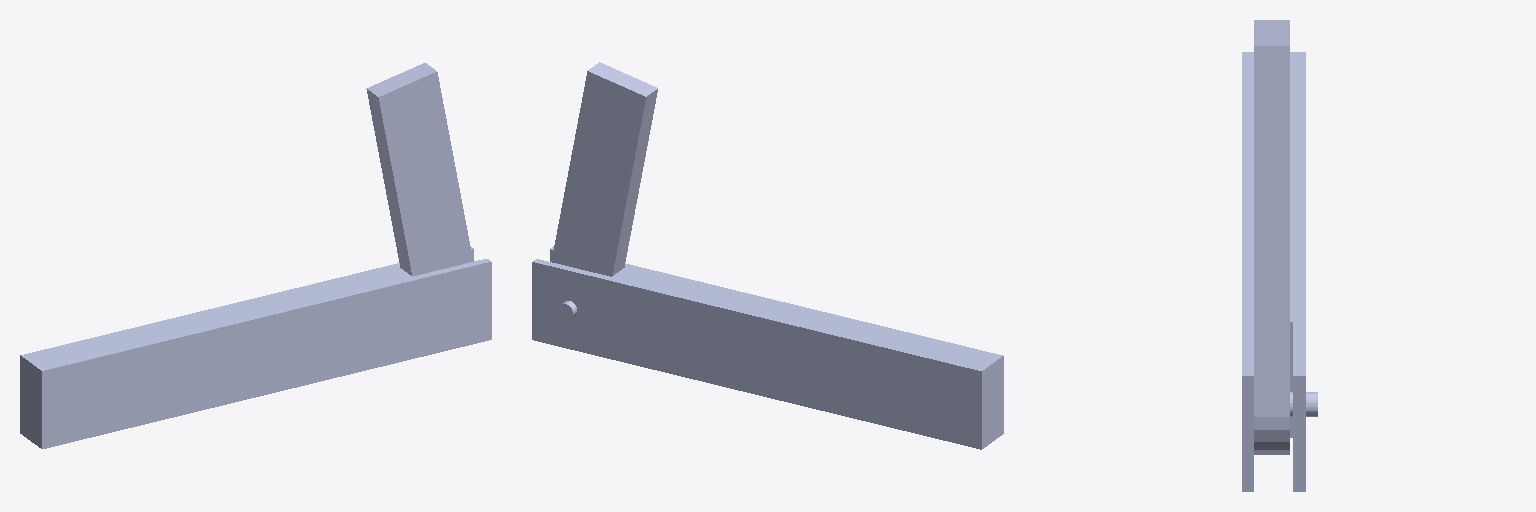
URDF robot description (Rod_assemblage.SLDASM):
<?xml version="1.0" encoding="utf-8"?>
<!-- This URDF was automatically created by SolidWorks to URDF Exporter! Originally created by Stephen Brawner (brawner@gmail.com) 
     Commit Version: 1.6.0-4-g7f85cfe  Build Version: 1.6.7995.38578
     For more information, please see http://wiki.ros.org/sw_urdf_exporter -->
<robot
  name="Rod_assemblage.SLDASM">
  <link
    name="base_link">
    <inertial>
      <origin
        xyz="-0.198209083852331 0.200265989397974 0.171802137420801"
        rpy="0 0 0" />
      <mass
        value="2.71256637061436" />
      <inertia
        ixx="0.00285587944393071"
        ixy="3.41137117315922E-06"
        ixz="-2.62968355937273E-18"
        iyy="0.0690366255333386"
        iyz="-4.37328340960632E-20"
        izz="0.0706813265117172" />
    </inertial>
    <visual>
      <origin
        xyz="0 0 0"
        rpy="0 0 0" />
      <geometry>
        <mesh
          filename="package://Rod_assemblage.SLDASM/meshes/base_link.STL" />
      </geometry>
      <material
        name="">
        <color
          rgba="0.792156862745098 0.819607843137255 0.933333333333333 1" />
      </material>
    </visual>
    <collision>
      <origin
        xyz="0 0 0"
        rpy="0 0 0" />
      <geometry>
        <mesh
          filename="package://Rod_assemblage.SLDASM/meshes/base_link.STL" />
      </geometry>
    </collision>
  </link>
  <link
    name="pivot">
    <inertial>
      <origin
        xyz="0.13324 -0.025324 -0.006"
        rpy="0 0 0" />
      <mass
        value="0.73443" />
      <inertia
        ixx="0.00065376"
        ixy="0.0011544"
        ixz="-1.1713E-19"
        iyy="0.0065079"
        iyz="1.1331E-20"
        izz="0.0070657" />
    </inertial>
    <visual>
      <origin
        xyz="0 0 0"
        rpy="0 0 0" />
      <geometry>
        <mesh
          filename="package://Rod_assemblage.SLDASM/meshes/pivot.STL" />
      </geometry>
      <material
        name="">
        <color
          rgba="0.79216 0.81961 0.93333 1" />
      </material>
    </visual>
    <collision>
      <origin
        xyz="0 0 0"
        rpy="0 0 0" />
      <geometry>
        <mesh
          filename="package://Rod_assemblage.SLDASM/meshes/pivot.STL" />
      </geometry>
    </collision>
  </link>
  <joint
    name="joint"
    type="revolute">
    <origin
      xyz="0.078282 -0.16684 0.20221"
      rpy="-1.5708 0 0" />
    <parent
      link="base_link" />
    <child
      link="pivot" />
    <axis
      xyz="0 0 -1" />
    <limit
      lower="1.57"
      upper="1.57"
      effort="10"
      velocity="2" />
  </joint>
</robot>

--- What the picture shows (computed from the rendered views, not written in the file) ---
3 views of the same robot in one strip: view 1: azimuth 30°, elevation 25°; view 2: azimuth 150°, elevation 25°; view 3: azimuth 270°, elevation 25° (orthographic).
Model Rod_assemblage.SLDASM with 2 links and 1 joints (1 revolute), rooted at base_link, posed joints at zero except 1 at the middle of their limits (joint = 1.57).
Visible links, largest first — view 1: base_link, pivot; view 2: base_link, pivot; view 3: pivot, base_link.
Boxes of the visible links, x1,y1,x2,y2 form: base_link: (20, 247, 491, 448); pivot: (366, 63, 472, 276); base_link: (532, 246, 1003, 449); pivot: (551, 62, 657, 276); pivot: (1254, 20, 1289, 454); base_link: (1242, 52, 1317, 491).
Bounding box of the posed robot: 0.6 × 0.06 × 0.3542 m (x, y, z).
2 mesh visuals loaded from 2 distinct referenced files (2 binary STL).
